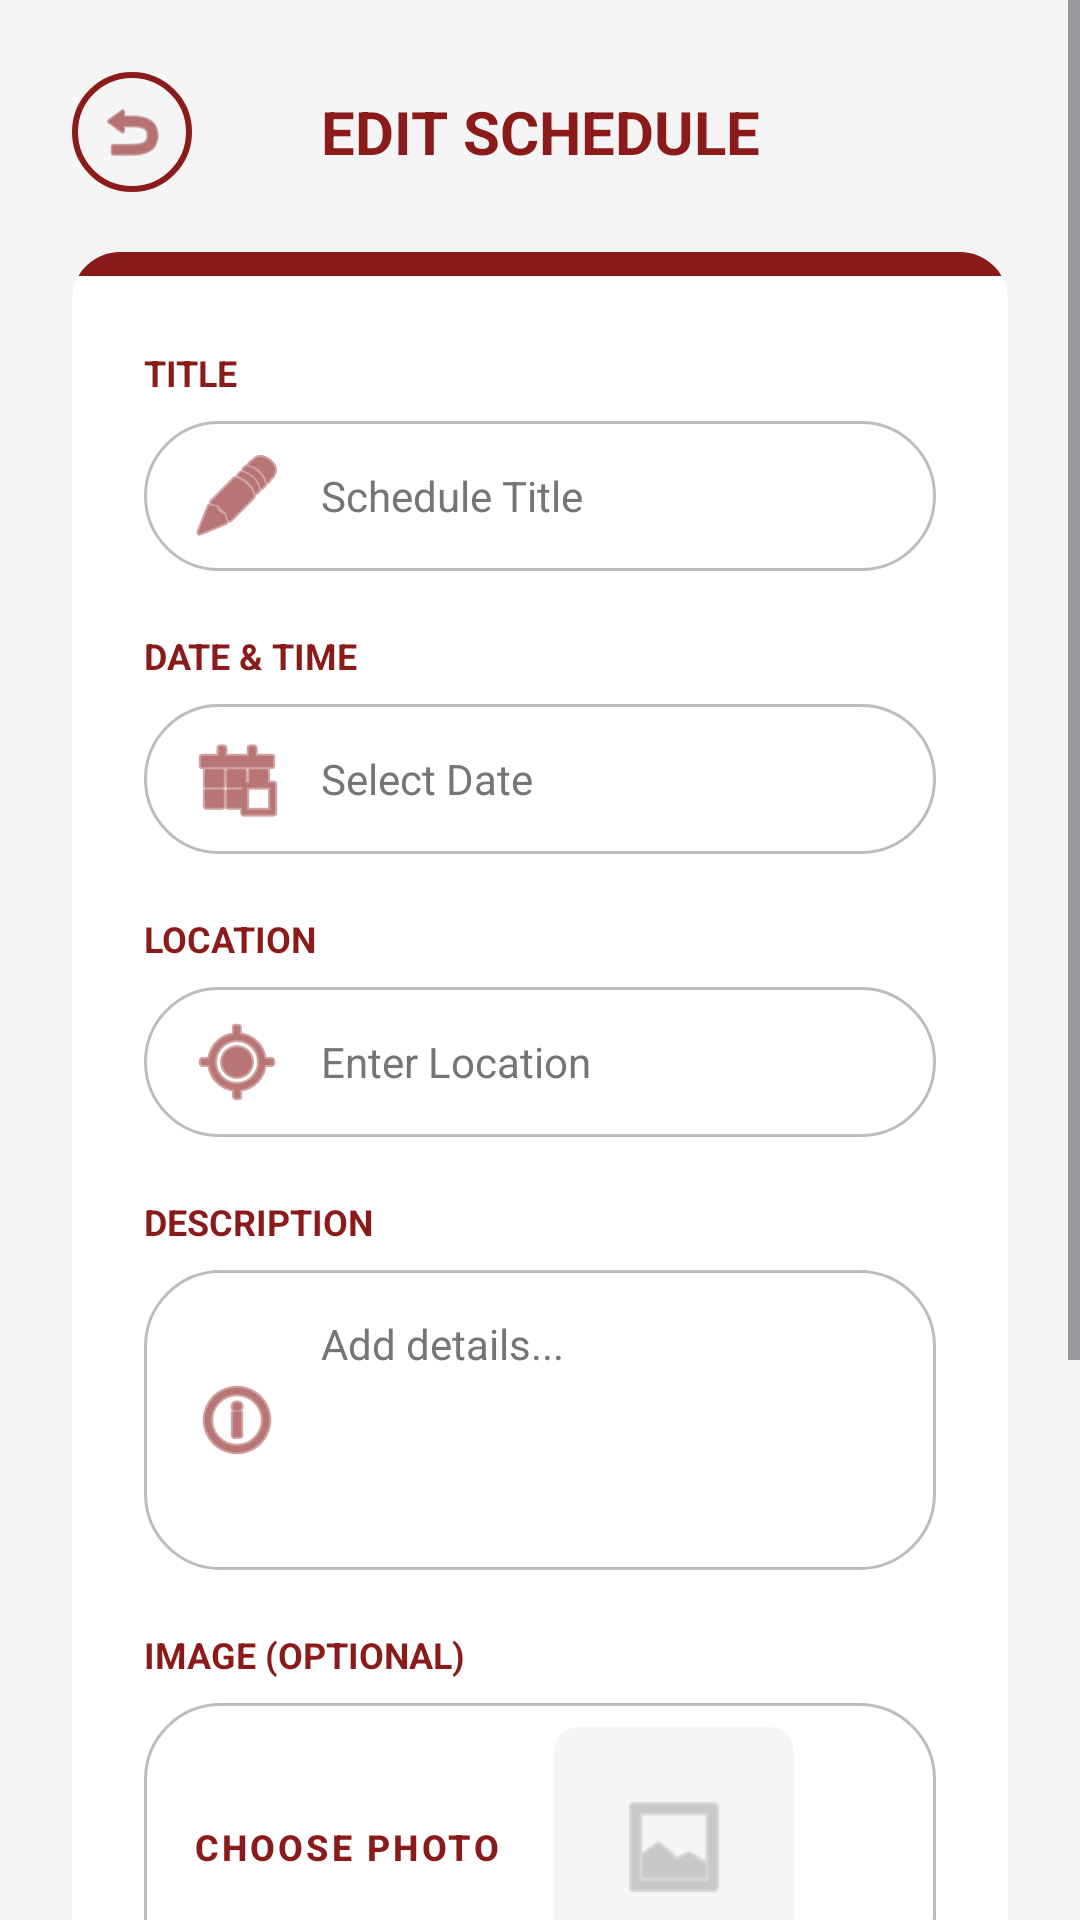

Icons on this 1080×1920 Android screen, each with the point to tap as [x,y]:
revert: [132,132]
